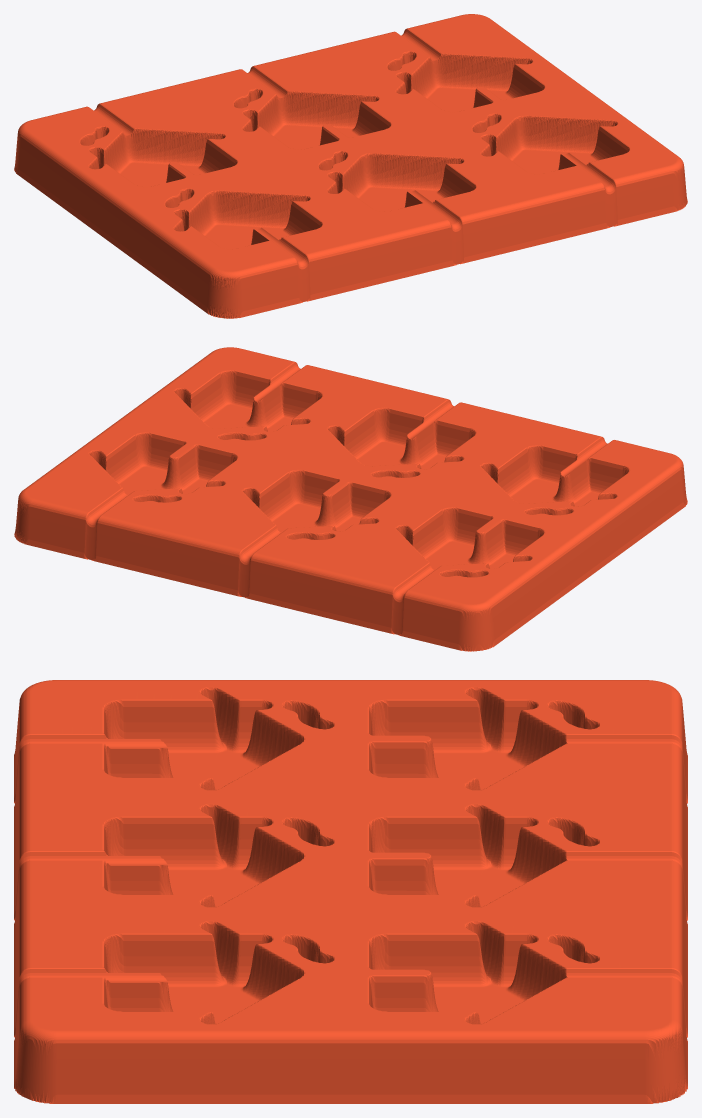
Rendered from mold.glb.
3 renders of one model, top to bottom at view 1: azimuth 30°, elevation 25°; view 2: azimuth 150°, elevation 25°; view 3: azimuth 270°, elevation 25°, orthographic. The views are drawn at different scales.
Parts seen in each view (by area): view 1: geometry_0; view 2: geometry_0; view 3: geometry_0.
Boxes of the visible parts, x1=… form: geometry_0: x1=14, y1=14, x2=687, y2=318; geometry_0: x1=14, y1=347, x2=687, y2=651; geometry_0: x1=14, y1=680, x2=687, y2=1103.
Size of the model in its own units: 0.1824 by 0.0155 by 0.1428.
